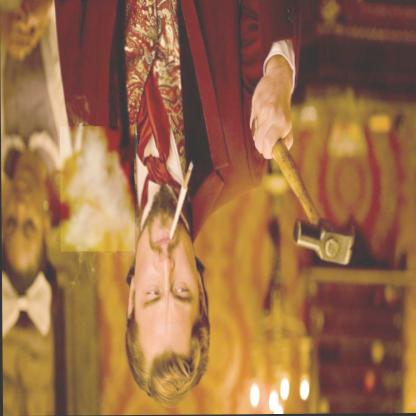smoke: (60, 126, 134, 252)
